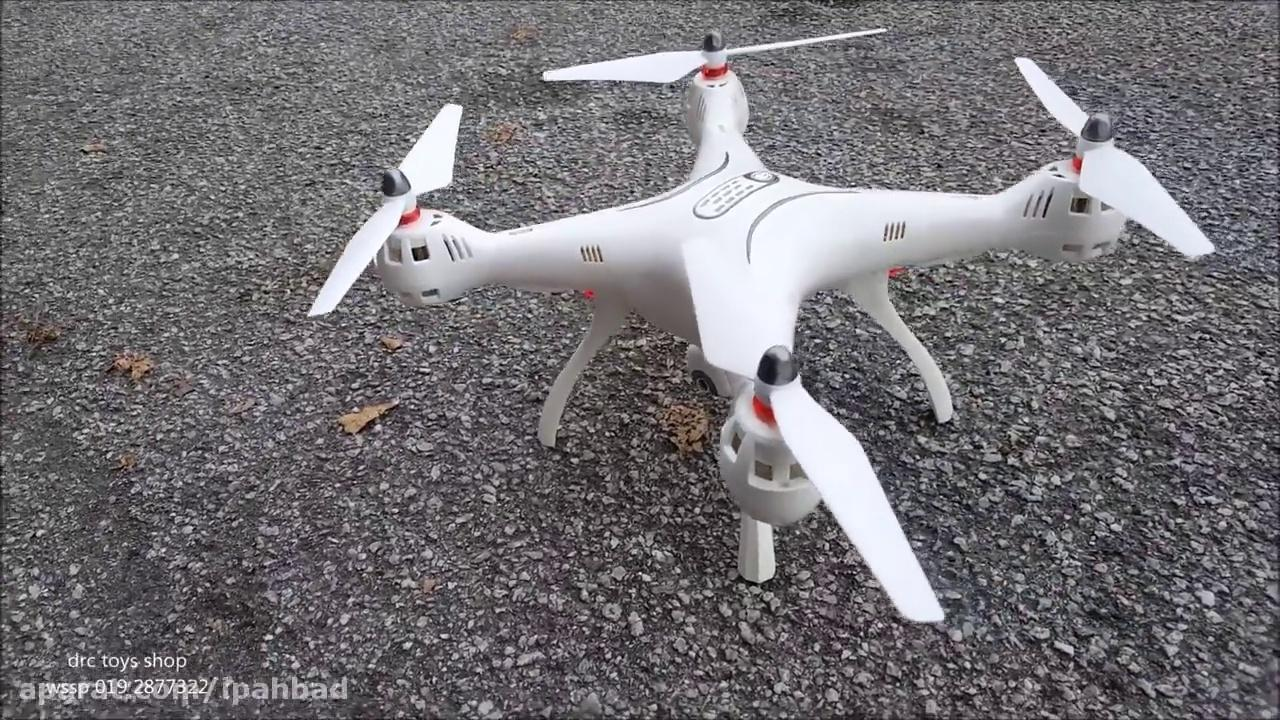drone: (300, 22, 1224, 628)
